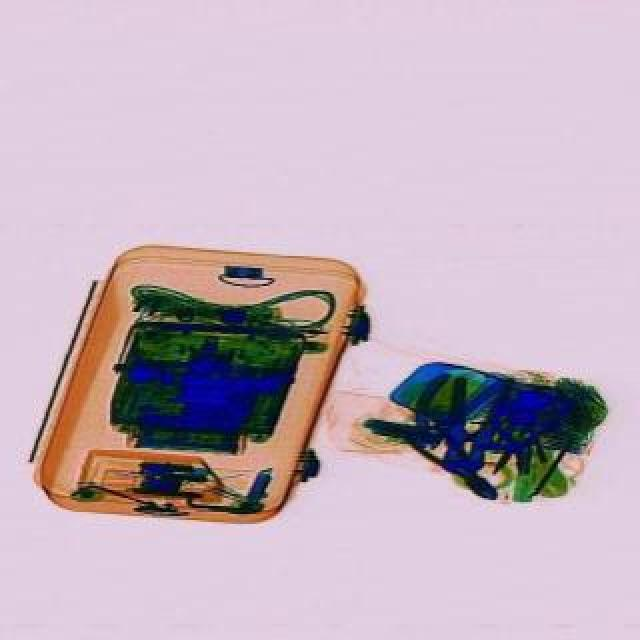wrench: (392, 404, 508, 514), (430, 368, 510, 478), (490, 392, 556, 476)
